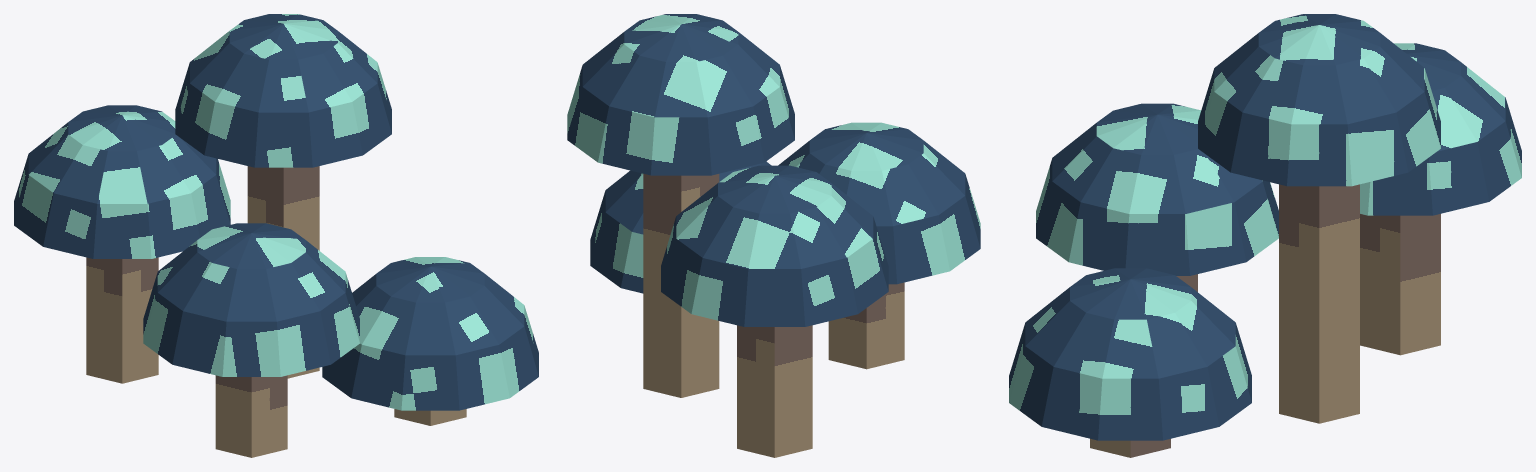
The model's file is special_mushrooms.gltf.
The picture shows the model from 3 angles, left to right: view 1: azimuth 30°, elevation 25°; view 2: azimuth 150°, elevation 25°; view 3: azimuth 270°, elevation 25°; orthographic projection. The views are drawn at different scales.
Visible parts, largest first — view 1: sphere (×4), cylinder (×4); view 2: sphere (×4), cylinder (×3); view 3: sphere (×4), cylinder (×3).
Part boxes in pixels (box(x1,y1,x2,y2)): sphere (×4): box(14, 14, 538, 410); cylinder (×4): box(86, 166, 466, 457); sphere (×4): box(567, 14, 980, 326); cylinder (×3): box(643, 173, 904, 457); sphere (×4): box(1009, 14, 1521, 440); cylinder (×3): box(1090, 184, 1440, 457).
Bounding box in the file's own units: 1.12 × 0.9688 × 1.19.
1 material, 1 textured.
